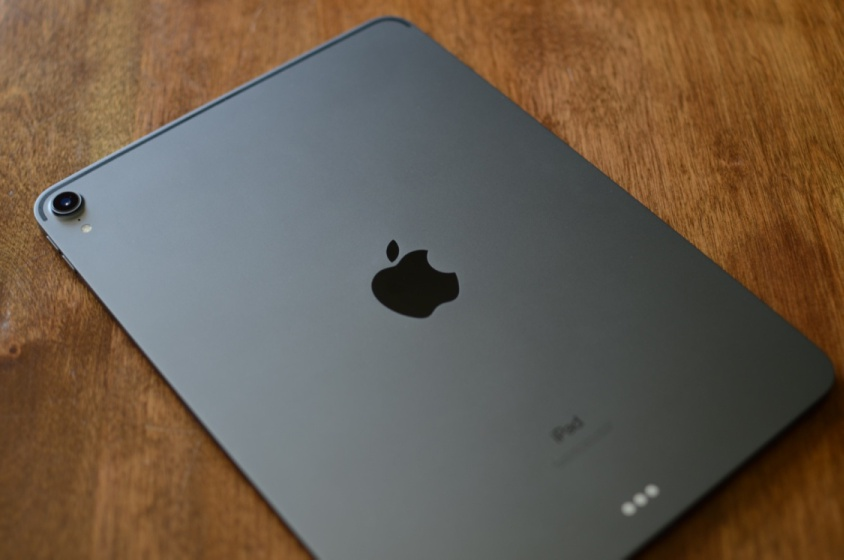apple: (348, 224, 476, 331)
